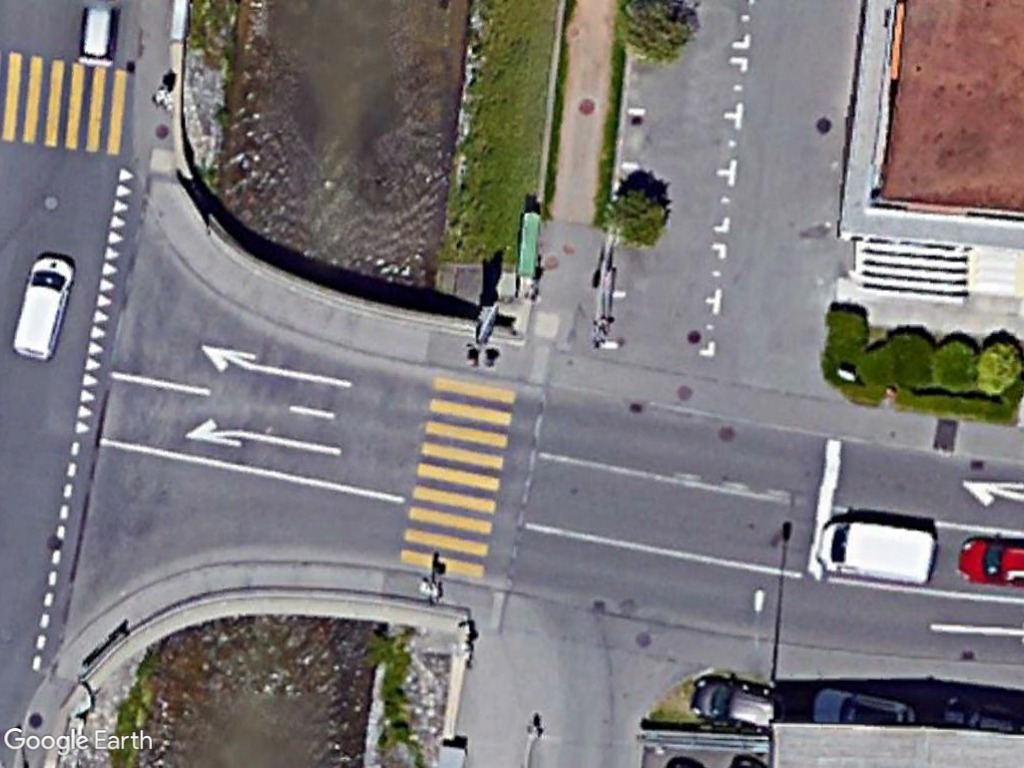van: (810, 517, 946, 587), (8, 244, 82, 366)
